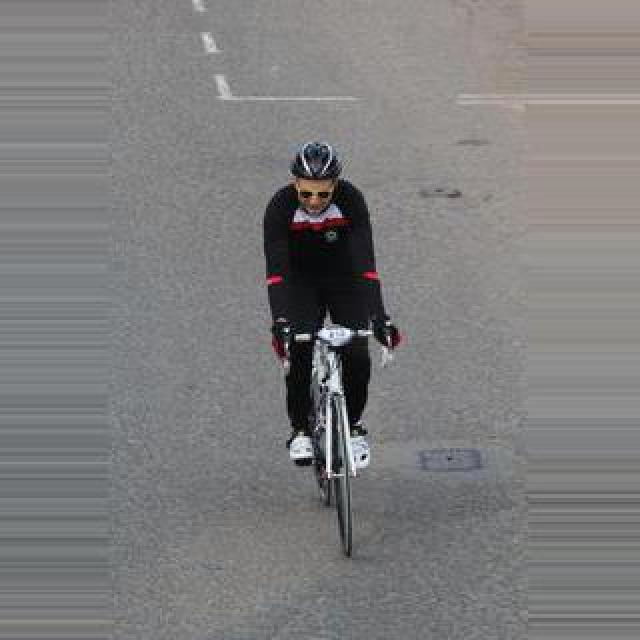MC-Bike: (258, 136, 406, 482)
Person: (293, 316, 373, 554)
